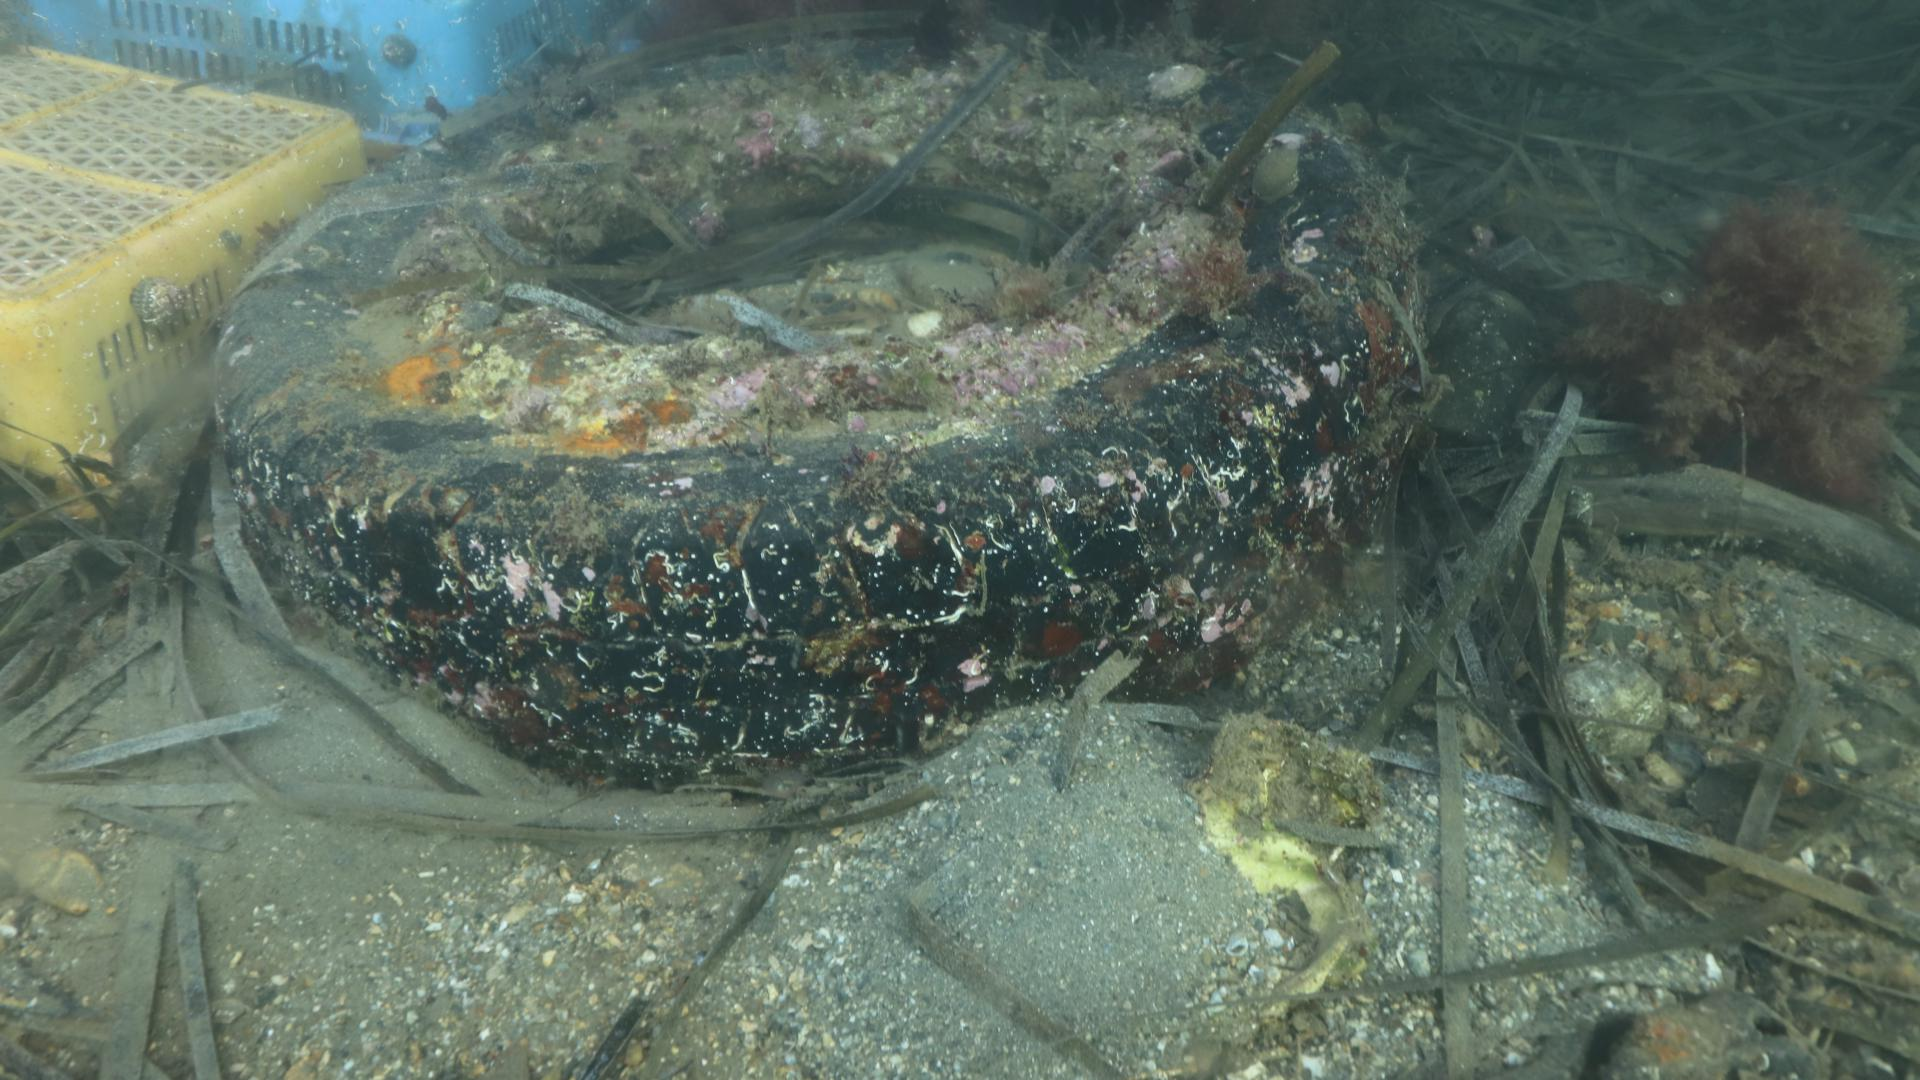tire: (211, 69, 1428, 793)
